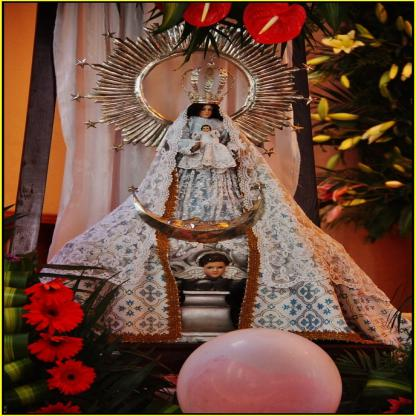Ball: (176, 328, 340, 416)
